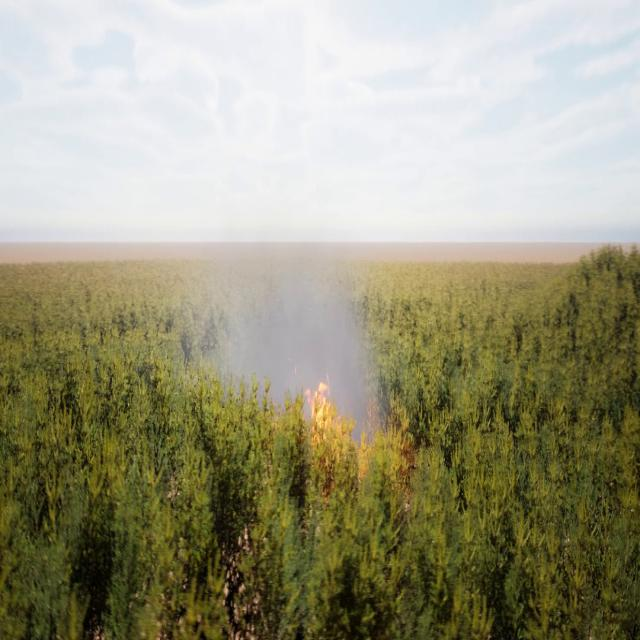fire: (303, 376, 340, 437)
smoke: (194, 220, 382, 456)
